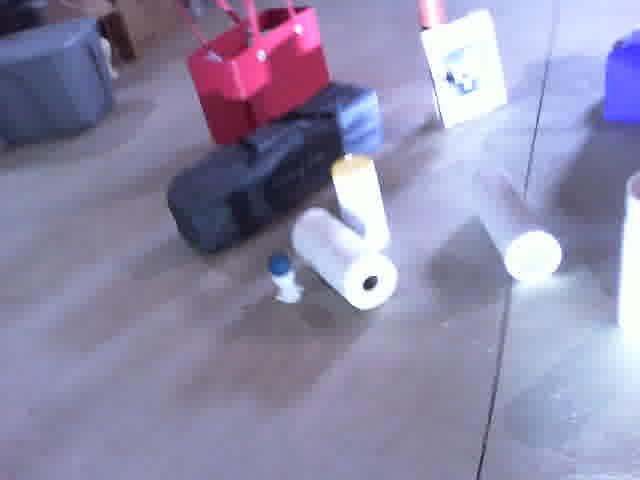coral: (463, 151, 567, 290), (612, 166, 640, 346)
